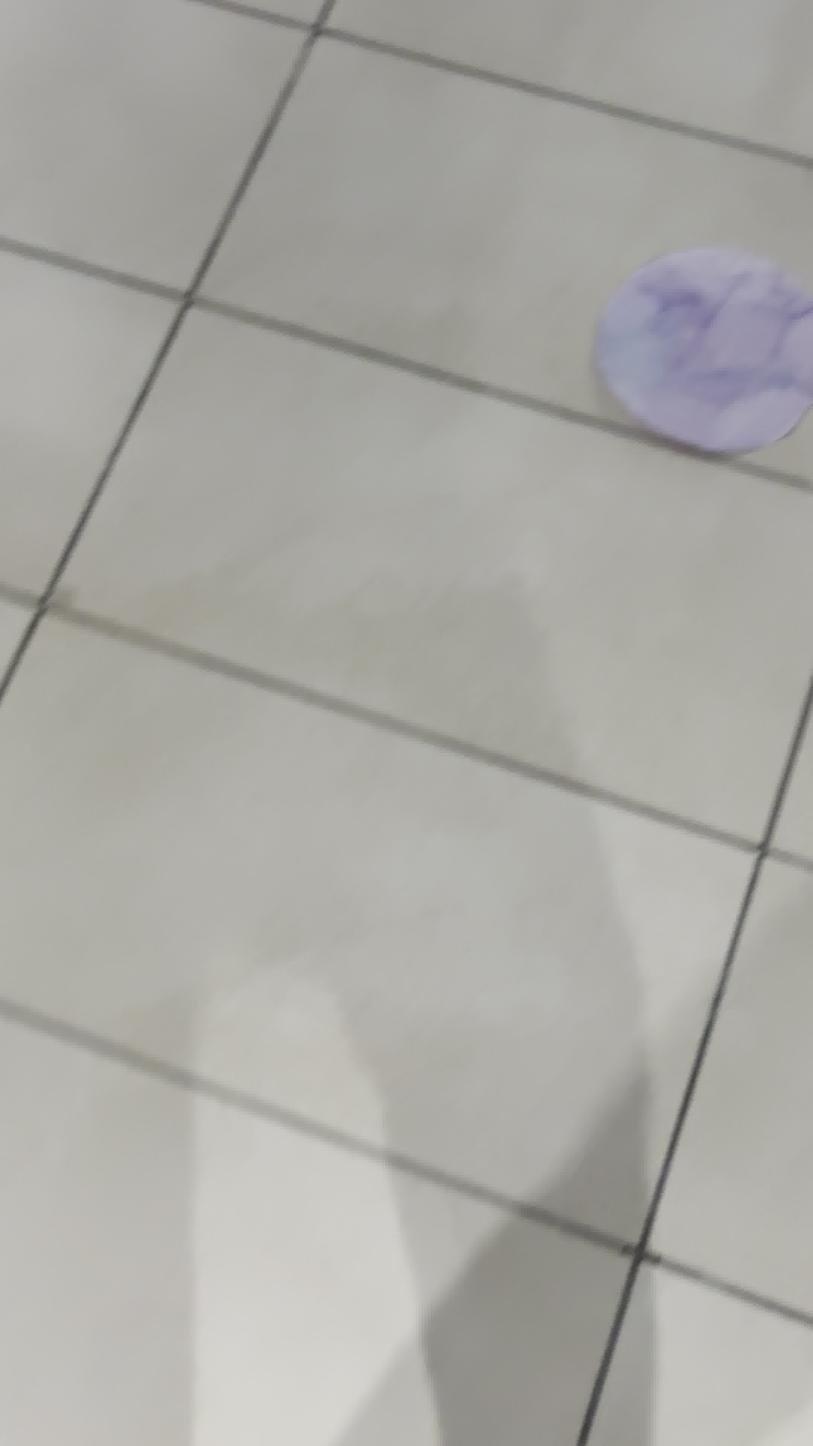Target: (588, 213, 813, 469)
